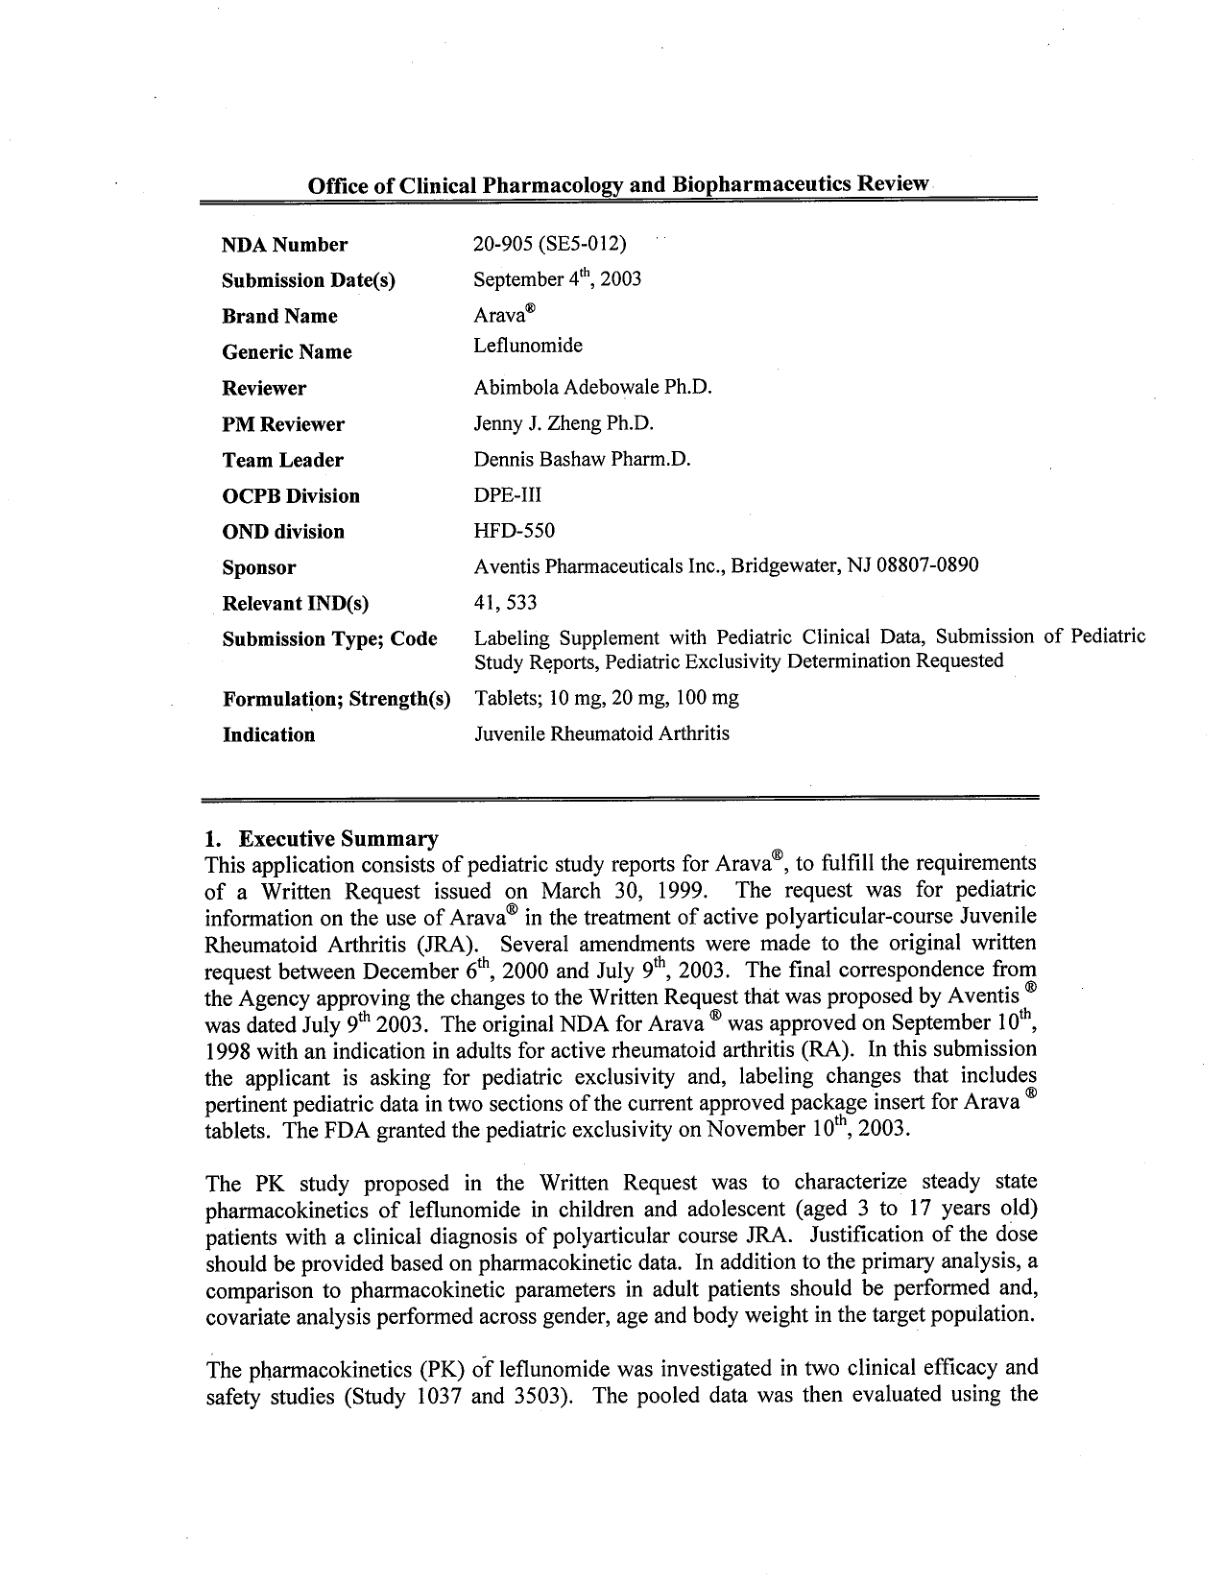partial_lined: (197, 195, 1147, 804)
